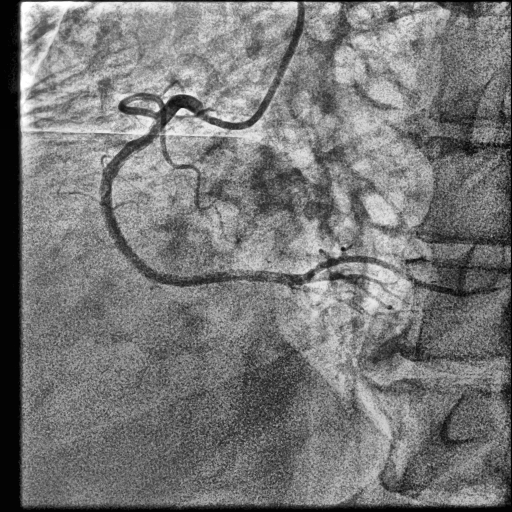pborca: (306, 256, 457, 295)
rca: (102, 94, 304, 287)
